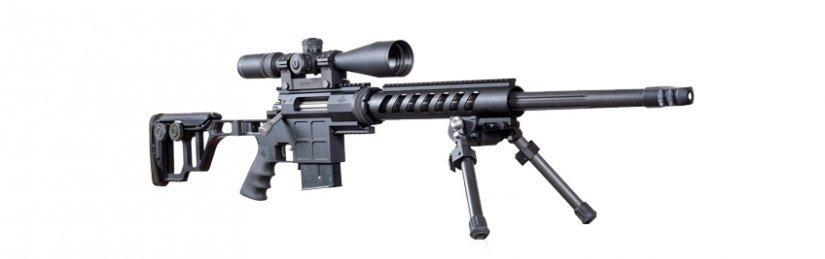larga: (146, 34, 696, 243)
